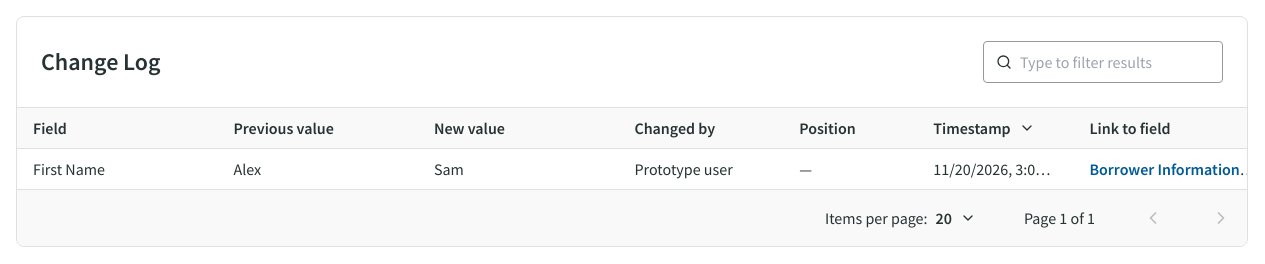
Test: loan-scoped History › renders persisted changes, filters them, and never shows another loan's log
This screenshot has width=1265, height=264.
Later steps or results of the test are not shown.
Expected: the text "Alex" is shown, [234, 159, 261, 179]
Expected: the text "Sam" is shown, [434, 159, 464, 179]
In the field with test id "input-search-change-log": (1120, 62) [1020, 52, 1221, 72], type "no match"
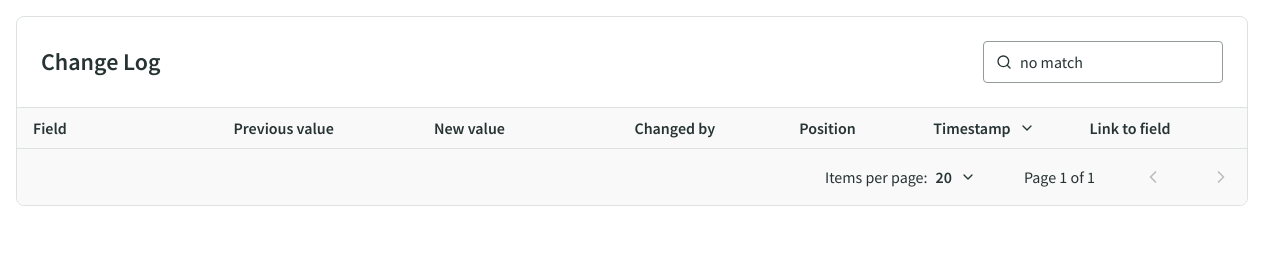
Expected: the text "Sam" is gone
